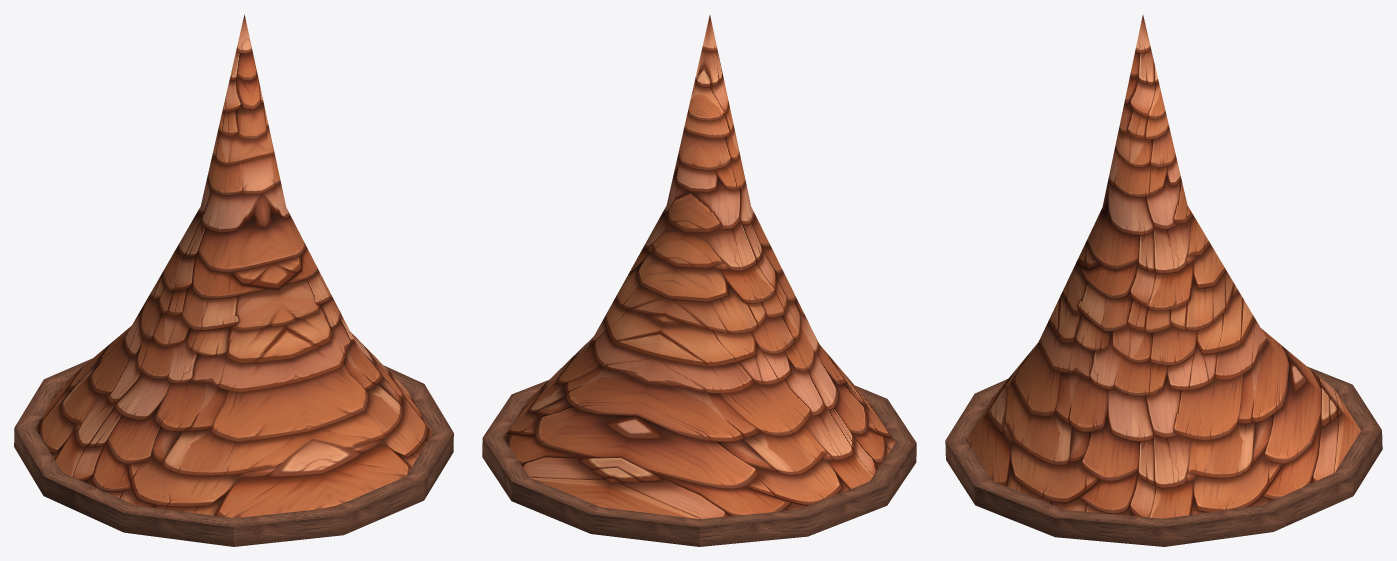
Rendered from TOUR_topB.fbx.
The picture shows the model from 3 angles, left to right: view 1: azimuth 30°, elevation 25°; view 2: azimuth 150°, elevation 25°; view 3: azimuth 270°, elevation 25°; orthographic projection.
Visible parts, largest first — view 1: Cylinder.002; view 2: Cylinder.002; view 3: Cylinder.002.
Part boxes in pixels (x1,y1,x2,y2): Cylinder.002: (14,14,453,546); Cylinder.002: (482,14,916,546); Cylinder.002: (945,15,1382,546).
Bounding box in the file's own units: 334 × 390 × 335.
